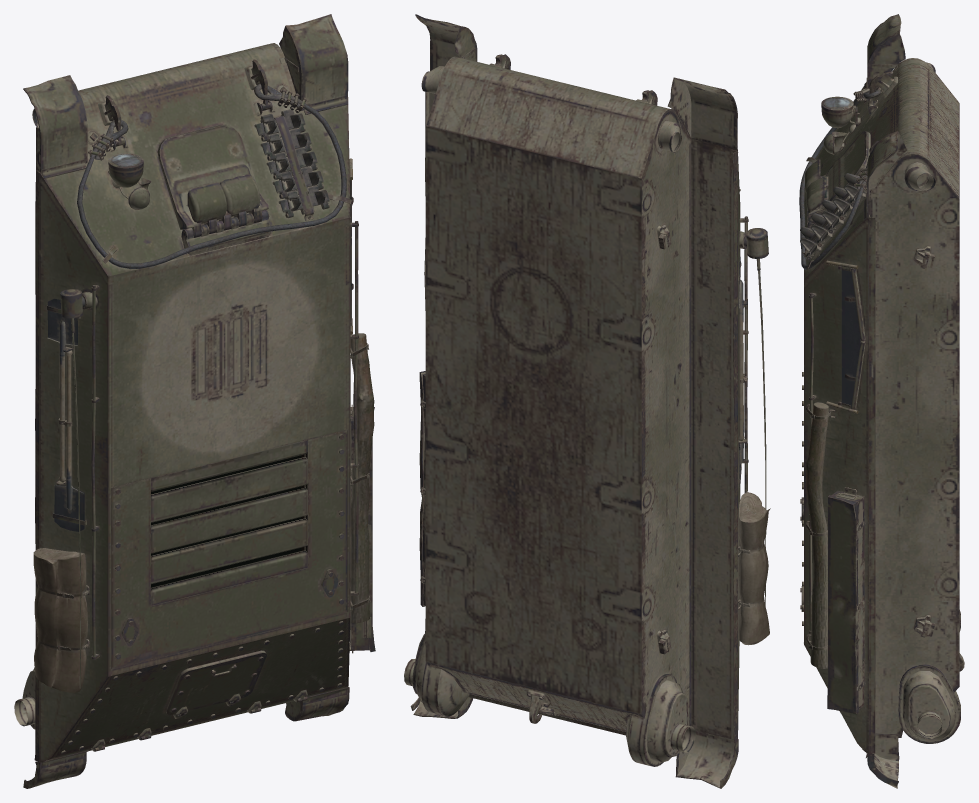
The model's file is Hull.glb.
3 views of the same model, side by side, from view 1: azimuth 30°, elevation 25°; view 2: azimuth 150°, elevation 25°; view 3: azimuth 270°, elevation 25° (orthographic). The views are drawn at different scales.
Visible parts, largest first — view 1: set_0_group_0; view 2: set_0_group_0; view 3: set_0_group_0.
Part boxes in pixels (bbox=[...]): set_0_group_0: bbox=[14, 14, 375, 788]; set_0_group_0: bbox=[404, 14, 770, 788]; set_0_group_0: bbox=[799, 14, 964, 788].
Size of the model in its own units: 2.23 by 4.37 by 1.02.
Materials: 1 (1 with a texture image).
